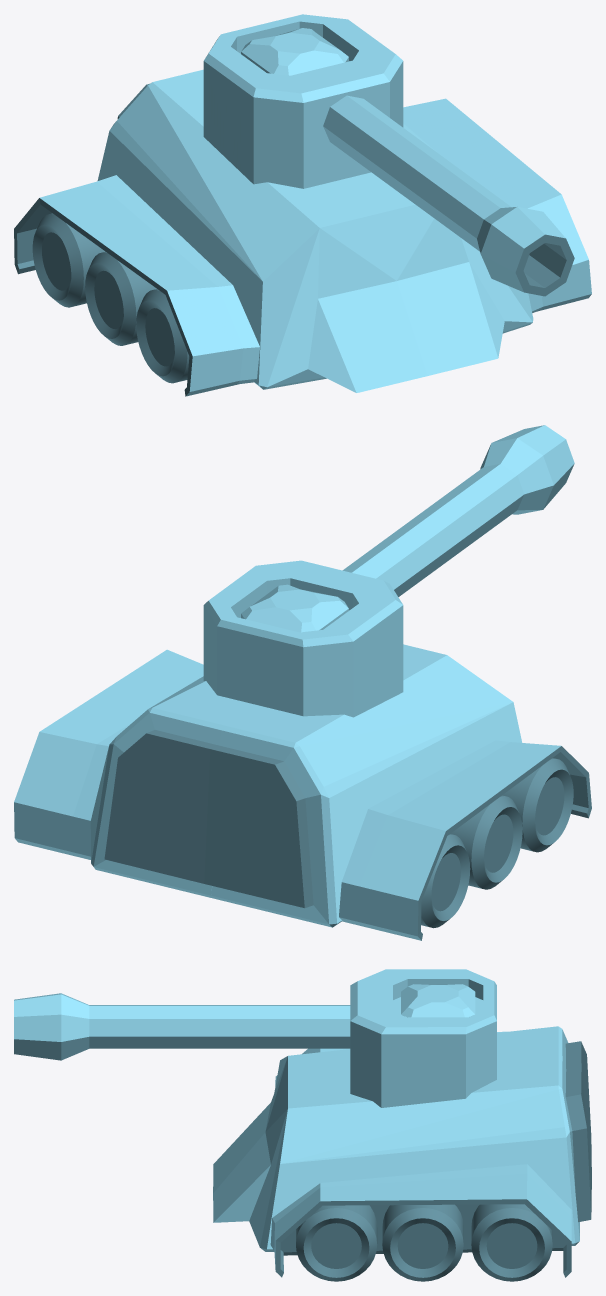
The model's file is Tank.glb.
3 views of the same model, one above another, from view 1: azimuth 30°, elevation 25°; view 2: azimuth 150°, elevation 25°; view 3: azimuth 270°, elevation 25° (orthographic). The views are drawn at different scales.
Visible parts, largest first — view 1: Tank.Base, Tank.Tower, Tank.Wheel.003, Tank.Wheel.001, Tank.Wheel.002; view 2: Tank.Base, Tank.Tower, Tank.Wheel.001, Tank.Wheel.002, Tank.Wheel.003; view 3: Tank.Base, Tank.Tower, Tank.Wheel.001, Tank.Wheel.003, Tank.Wheel.002.
Part boxes in pixels (left/top/right/bottom): Tank.Base: left=14, top=69, right=591, bottom=396; Tank.Tower: left=203, top=14, right=574, bottom=296; Tank.Wheel.003: left=32, top=213, right=104, bottom=307; Tank.Wheel.001: left=85, top=251, right=156, bottom=345; Tank.Wheel.002: left=136, top=289, right=189, bottom=383; Tank.Base: left=14, top=644, right=591, bottom=940; Tank.Tower: left=203, top=425, right=574, bottom=717; Tank.Wheel.001: left=450, top=795, right=522, bottom=889; Tank.Wheel.002: left=502, top=758, right=573, bottom=852; Tank.Wheel.003: left=421, top=834, right=470, bottom=928; Tank.Base: left=213, top=1026, right=591, bottom=1277; Tank.Tower: left=14, top=969, right=496, bottom=1107; Tank.Wheel.001: left=382, top=1204, right=463, bottom=1281; Tank.Wheel.003: left=471, top=1204, right=552, bottom=1281; Tank.Wheel.002: left=296, top=1205, right=377, bottom=1281.
Bounding box in the file's own units: 2.55 × 1.47 × 3.7.
